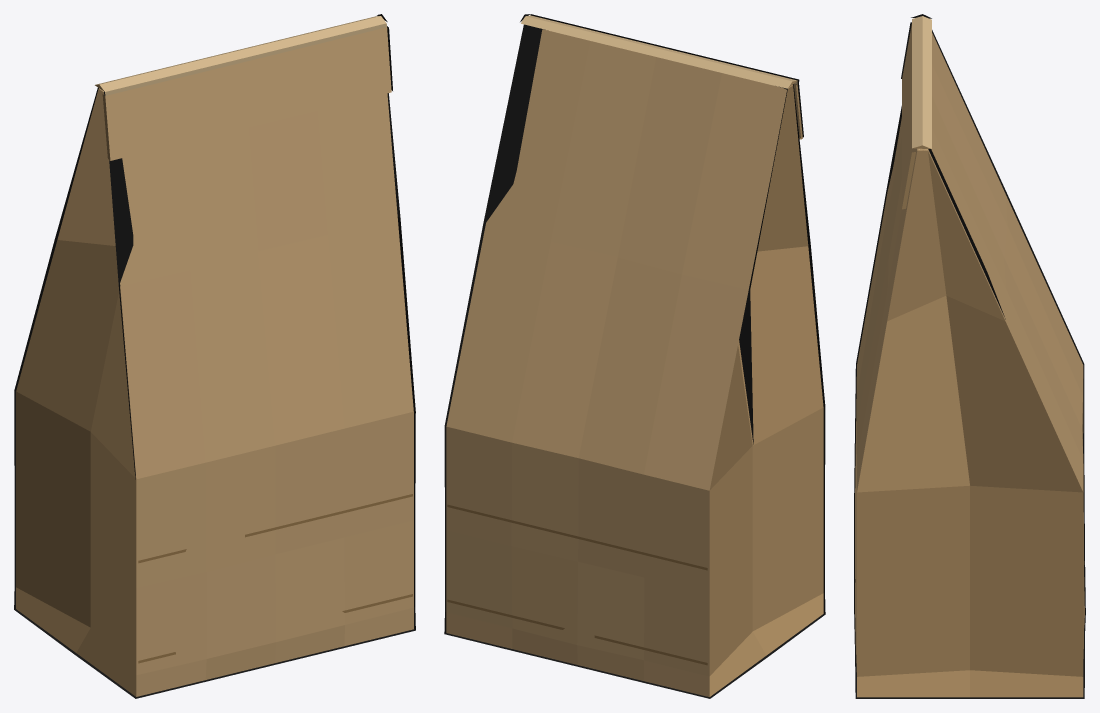
File: Kese_buyuk.fbx
3 views of the same model, side by side, from view 1: azimuth 30°, elevation 25°; view 2: azimuth 150°, elevation 25°; view 3: azimuth 270°, elevation 25° (orthographic). The views are drawn at different scales.
Visible parts, largest first — view 1: Kese_buyuk; view 2: Kese_buyuk; view 3: Kese_buyuk.
Boxes of the visible parts, x1,y1,x2,y2 form: Kese_buyuk: [14, 14, 415, 698]; Kese_buyuk: [444, 14, 825, 698]; Kese_buyuk: [854, 14, 1085, 698].
Bounding box in the file's own units: 0.2047 × 0.4063 × 0.1537.
